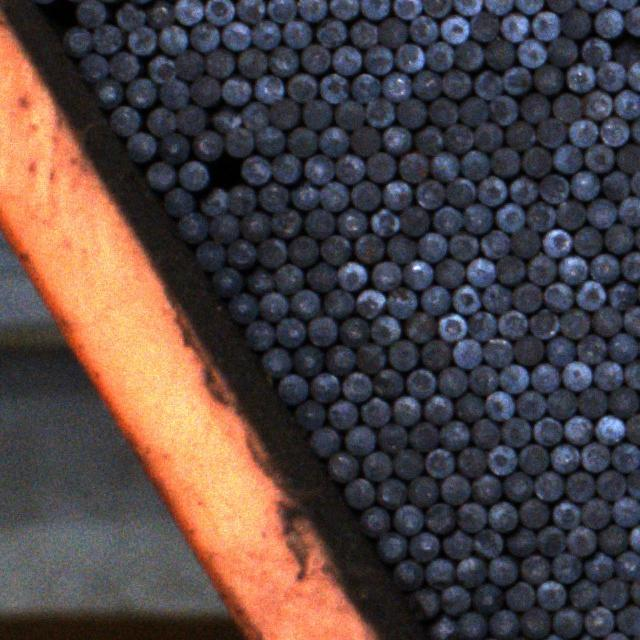tool: (233, 256, 286, 300), (338, 6, 386, 54), (342, 423, 376, 457), (356, 504, 389, 538), (175, 104, 208, 138), (352, 232, 386, 265), (284, 72, 318, 105), (256, 290, 289, 323), (406, 586, 440, 618), (598, 575, 630, 609), (552, 605, 586, 637), (593, 412, 625, 446), (386, 232, 418, 266), (302, 208, 336, 240), (238, 154, 272, 186), (300, 154, 334, 186), (395, 151, 429, 183), (333, 97, 365, 131), (394, 97, 428, 129), (518, 91, 552, 123), (422, 609, 457, 640), (292, 398, 324, 431), (258, 344, 290, 377), (358, 395, 391, 427), (418, 339, 451, 371), (287, 235, 319, 268), (463, 202, 495, 235), (413, 178, 446, 210), (412, 123, 444, 156), (498, 10, 531, 42), (400, 204, 431, 238), (391, 558, 423, 590), (342, 477, 374, 509), (470, 582, 502, 614), (534, 580, 566, 612), (327, 451, 359, 483), (550, 442, 582, 474), (421, 392, 453, 424), (290, 344, 322, 376), (274, 315, 306, 347), (528, 307, 560, 339), (322, 286, 354, 318), (606, 278, 638, 310), (588, 252, 620, 284), (108, 104, 140, 136), (447, 230, 479, 262), (238, 210, 270, 242), (569, 170, 601, 202), (364, 151, 396, 183), (429, 150, 461, 182), (520, 146, 552, 178), (552, 142, 584, 174), (254, 125, 286, 157), (318, 125, 350, 157), (317, 72, 349, 104), (380, 71, 412, 103), (330, 43, 362, 75), (280, 18, 312, 50), (314, 16, 346, 48), (242, 319, 273, 352), (384, 340, 418, 370), (106, 50, 140, 80), (290, 178, 320, 212), (446, 174, 476, 208), (458, 94, 488, 128), (471, 472, 502, 504), (518, 497, 550, 528), (322, 344, 354, 375), (559, 306, 591, 337), (92, 22, 123, 54), (381, 178, 412, 210), (286, 126, 317, 158), (348, 124, 380, 155), (380, 125, 412, 156), (598, 116, 630, 147), (269, 97, 300, 129), (300, 99, 332, 130), (582, 88, 613, 120), (532, 63, 564, 94), (236, 47, 268, 78), (394, 42, 426, 73), (484, 39, 516, 70), (377, 16, 408, 48), (438, 12, 470, 43), (375, 532, 408, 562), (438, 473, 471, 503), (437, 420, 470, 450), (368, 314, 401, 344), (319, 235, 352, 265), (540, 228, 573, 258), (368, 207, 401, 237), (580, 36, 613, 66), (250, 19, 280, 52), (361, 451, 392, 482), (576, 387, 607, 418), (308, 371, 339, 402), (404, 368, 435, 399), (125, 130, 156, 161), (190, 75, 221, 106), (561, 7, 592, 38), (374, 478, 406, 508), (406, 474, 438, 504), (533, 469, 565, 499), (564, 469, 594, 501), (392, 502, 422, 534), (486, 500, 518, 530), (580, 496, 612, 526), (407, 530, 439, 560), (440, 528, 472, 558), (473, 526, 503, 558), (505, 524, 535, 556), (456, 556, 488, 586), (582, 548, 612, 580), (440, 584, 470, 616), (504, 580, 534, 612), (596, 522, 626, 554), (594, 470, 626, 500), (517, 444, 549, 474), (307, 426, 339, 456), (276, 374, 308, 404), (227, 291, 257, 323), (210, 266, 242, 296), (500, 416, 530, 448), (326, 398, 358, 428), (452, 391, 484, 421), (606, 386, 638, 416), (435, 366, 467, 396), (498, 363, 528, 395), (560, 360, 592, 390), (355, 340, 385, 372), (404, 311, 436, 341), (355, 288, 387, 318), (388, 286, 418, 318), (452, 282, 482, 314), (178, 210, 208, 242), (193, 129, 225, 159), (210, 100, 240, 132), (220, 75, 252, 105), (126, 24, 156, 56), (418, 230, 448, 262), (574, 225, 604, 257), (270, 208, 302, 238), (336, 208, 368, 238), (524, 202, 556, 232), (586, 196, 616, 228), (256, 182, 288, 212), (320, 180, 350, 212), (351, 178, 381, 210), (476, 176, 508, 206), (272, 152, 302, 184), (460, 150, 490, 182), (536, 118, 568, 148), (252, 74, 284, 104), (564, 62, 596, 92), (596, 60, 626, 92), (300, 42, 330, 74), (425, 40, 455, 72), (454, 40, 484, 72), (516, 38, 548, 68), (546, 36, 578, 66), (531, 9, 561, 41), (594, 6, 624, 38), (202, 47, 236, 75), (502, 470, 533, 500), (552, 553, 582, 584), (520, 606, 551, 636), (546, 387, 576, 418), (529, 362, 560, 392), (606, 332, 636, 363), (468, 309, 498, 340), (592, 304, 622, 335), (305, 260, 336, 290), (337, 260, 368, 290), (434, 256, 465, 286), (194, 239, 224, 270), (145, 105, 175, 136), (92, 77, 123, 107), (61, 26, 92, 56), (479, 229, 510, 259), (432, 205, 463, 235), (585, 142, 616, 172), (504, 120, 534, 151), (240, 100, 270, 131), (552, 92, 583, 122), (363, 43, 393, 74), (408, 13, 438, 44), (491, 146, 520, 178), (479, 338, 512, 366), (369, 262, 402, 290), (425, 502, 455, 532), (456, 501, 486, 531), (565, 526, 595, 556), (520, 553, 550, 583), (488, 608, 518, 638), (584, 606, 614, 636), (392, 448, 422, 478), (424, 448, 454, 478), (486, 445, 516, 475), (407, 421, 437, 451), (469, 418, 499, 448), (532, 416, 562, 446), (562, 414, 592, 444), (484, 391, 514, 421), (372, 368, 402, 398), (467, 364, 497, 394), (592, 360, 622, 390), (544, 336, 574, 366), (576, 334, 606, 364), (421, 284, 451, 314), (512, 282, 542, 312), (543, 282, 573, 312), (575, 280, 605, 310), (402, 258, 432, 288), (466, 256, 496, 286), (526, 254, 556, 284), (226, 238, 256, 268), (224, 127, 254, 157), (159, 80, 189, 110), (220, 20, 250, 50), (114, 0, 144, 30), (604, 224, 634, 254), (494, 202, 524, 232), (556, 200, 586, 230), (508, 175, 538, 205), (539, 174, 569, 204), (428, 97, 458, 127), (488, 94, 518, 124), (350, 73, 380, 103), (412, 70, 442, 100), (440, 68, 470, 98), (268, 46, 298, 76), (470, 11, 500, 41), (569, 578, 598, 609), (611, 496, 640, 527), (472, 122, 503, 151), (365, 98, 394, 129), (472, 69, 503, 98), (436, 312, 468, 340), (199, 183, 227, 215), (177, 160, 209, 188), (550, 499, 579, 529), (535, 525, 564, 555), (426, 557, 455, 587), (488, 556, 517, 586), (377, 424, 406, 454), (341, 372, 370, 402), (452, 338, 481, 368), (513, 334, 542, 364), (339, 315, 368, 345), (290, 288, 319, 318), (482, 282, 511, 312), (557, 255, 587, 284), (126, 78, 156, 107), (146, 53, 176, 82), (144, 0, 174, 29), (258, 238, 287, 268), (568, 119, 598, 148), (503, 65, 532, 95), (496, 253, 524, 284), (163, 187, 194, 215), (74, 0, 105, 28), (336, 154, 364, 185), (444, 123, 472, 154), (515, 391, 547, 418), (458, 611, 487, 640), (611, 41, 640, 70), (455, 447, 485, 475), (582, 441, 610, 471), (610, 443, 640, 471), (392, 394, 420, 424), (308, 315, 336, 345), (498, 310, 528, 338), (274, 264, 304, 292), (158, 133, 188, 161), (158, 24, 188, 52), (190, 21, 220, 49), (510, 228, 540, 256), (602, 170, 630, 200), (228, 183, 255, 214), (613, 550, 640, 580), (613, 88, 640, 118), (210, 213, 238, 241), (146, 160, 174, 188), (79, 51, 107, 79), (175, 49, 202, 78), (616, 142, 640, 174), (615, 604, 640, 634), (616, 195, 640, 226), (234, 0, 265, 24), (172, 0, 204, 23), (264, 0, 296, 22), (298, 0, 328, 23), (204, 0, 233, 23), (620, 250, 640, 281), (328, 0, 359, 20), (361, 0, 389, 21), (392, 0, 421, 19), (623, 304, 640, 336), (422, 0, 450, 18), (623, 359, 640, 388), (450, 0, 482, 15), (626, 59, 640, 93), (625, 468, 640, 499), (625, 413, 640, 444), (625, 5, 640, 36), (484, 0, 514, 14), (544, 0, 576, 12), (514, 0, 542, 13), (576, 0, 606, 12)
void: (199, 148, 252, 198), (39, 0, 72, 29)
